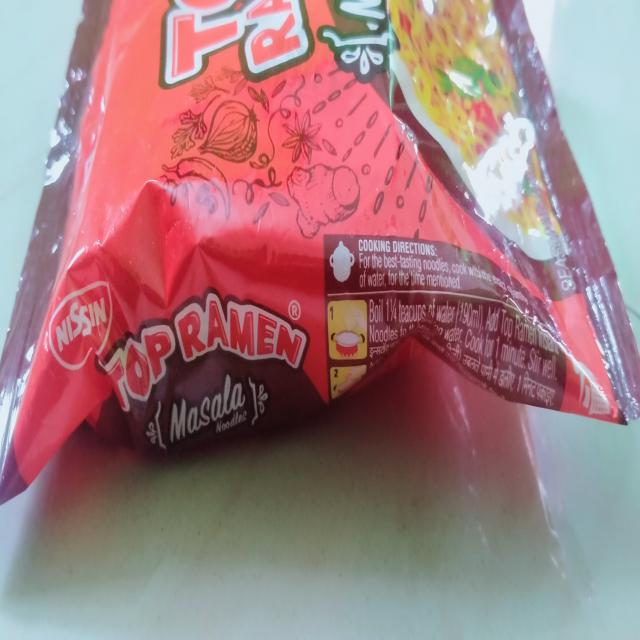maggi: (0, 0, 640, 491)
